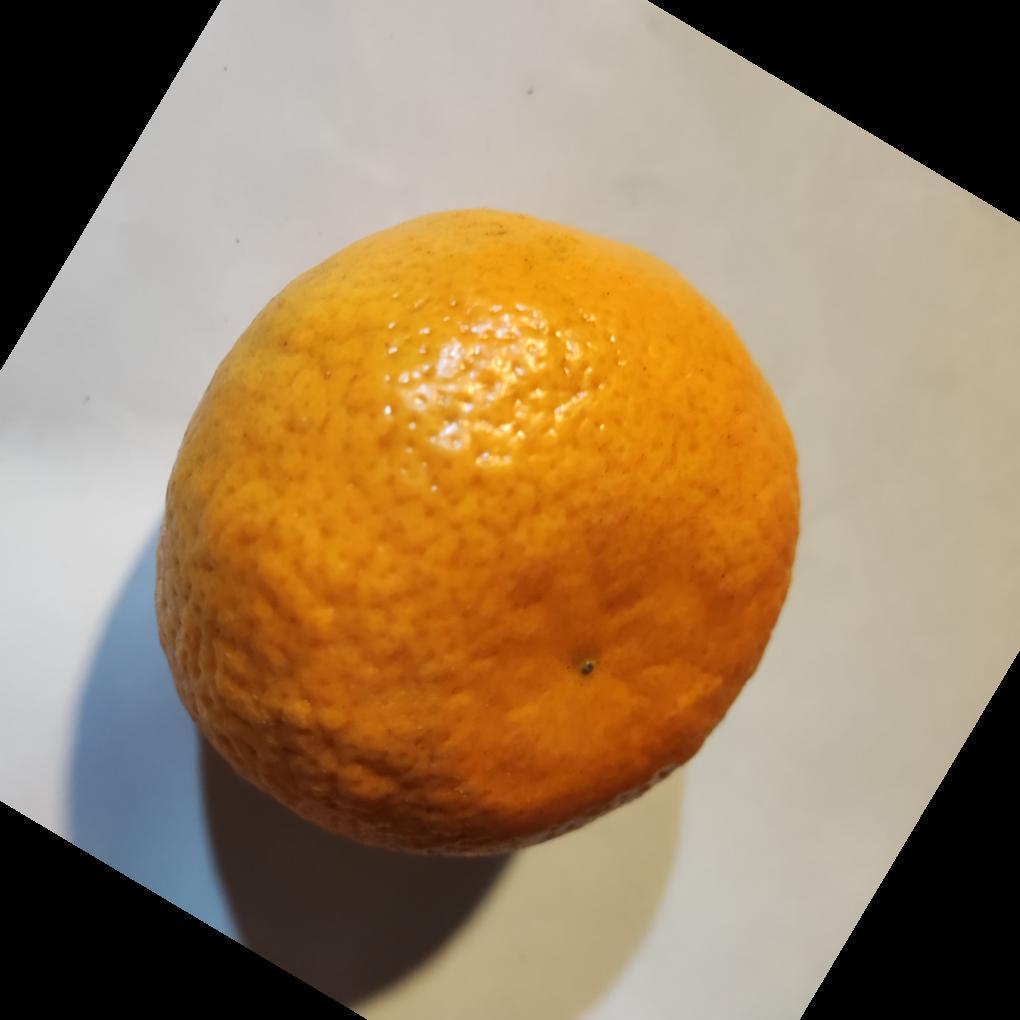FreshGuava: (149, 208, 805, 866)
